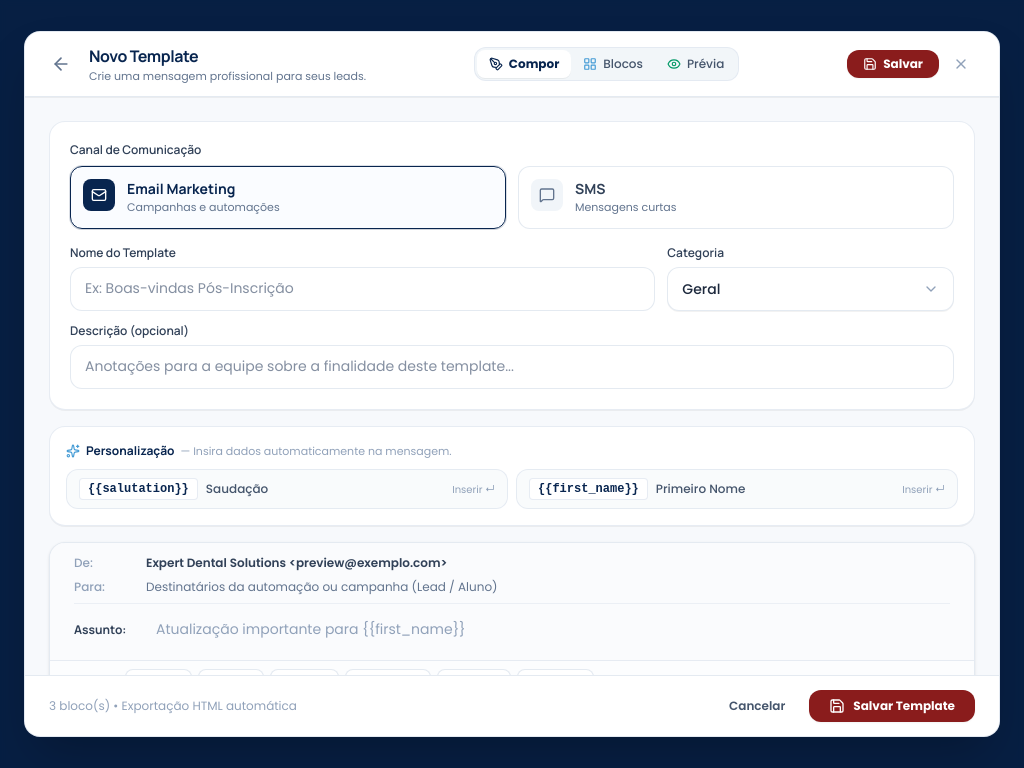
EDS HUB — Template Editor Premium Redesign: Component & UX Tests › TemplateEditorModal: Email Composer › switches seamlessly to Blocos mode with localized block controls
Note: Click Blocos tab
Step 1. Click the button "Blocos" → click(613, 64), box [571,50,655,78]
(page scrolled)
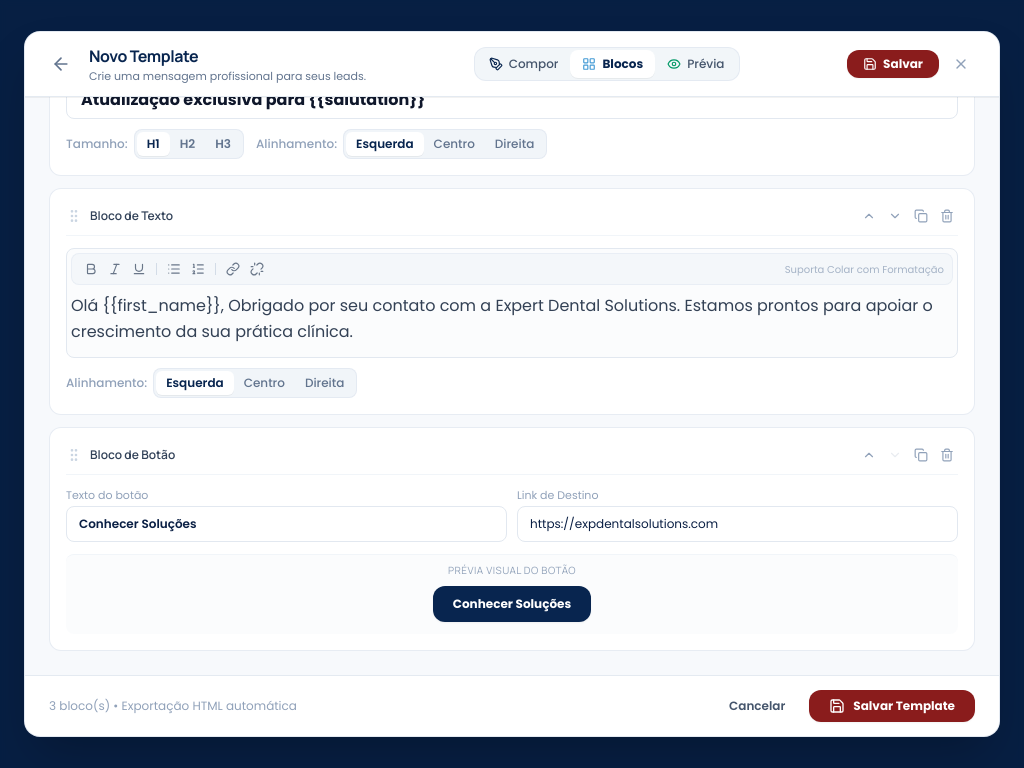
Now the text "Bloco de Texto" is shown, box [90,208,173,224]
Now the text "Bloco de Botão" is shown, box [90,447,175,463]
